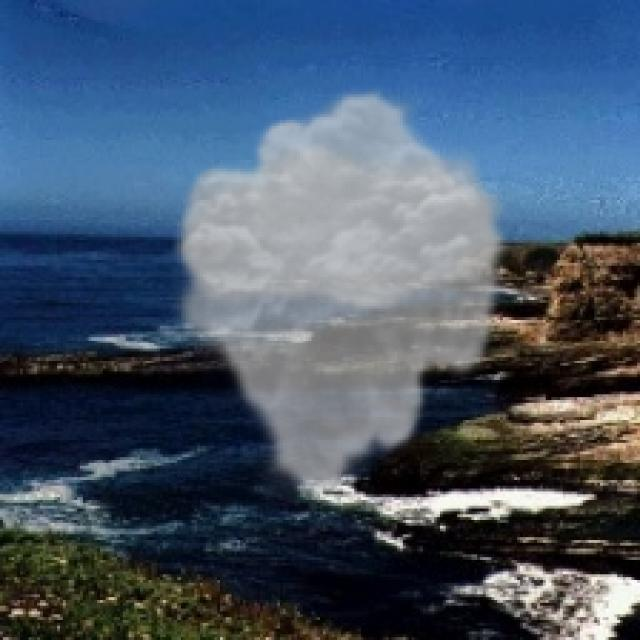smoke: (166, 86, 514, 503)
